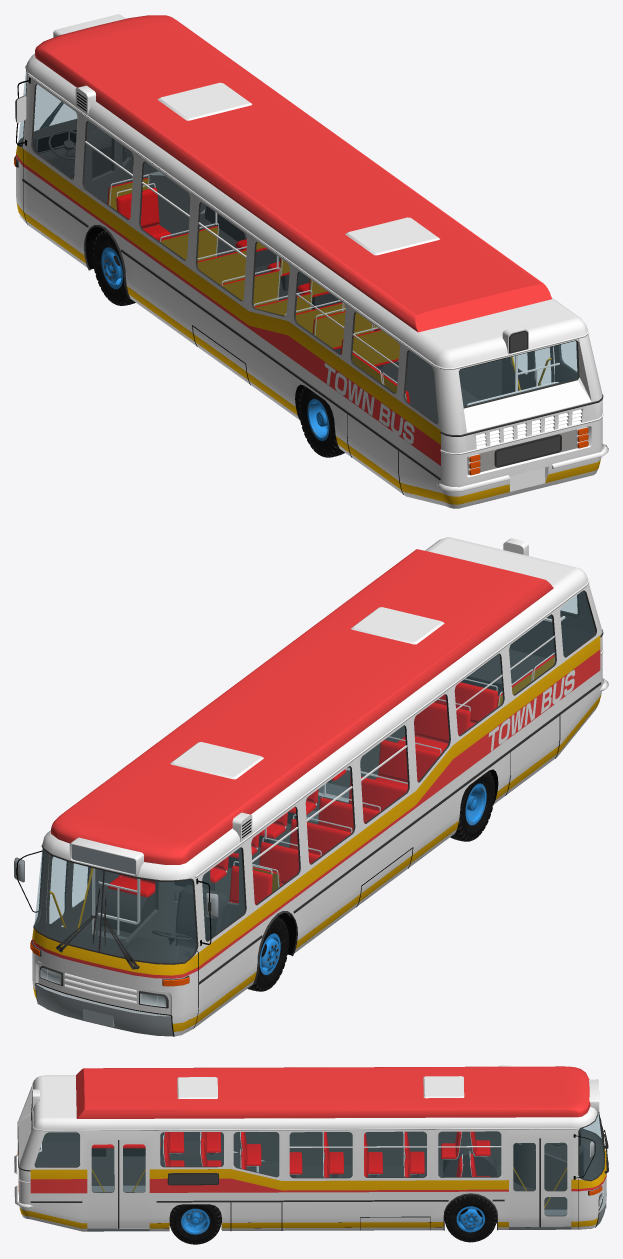
Rendered from bus_city_01.glb.
3 renders of one model, top to bottom at view 1: azimuth 30°, elevation 25°; view 2: azimuth 150°, elevation 25°; view 3: azimuth 270°, elevation 25°, orthographic. The views are drawn at different scales.
Visible parts, largest first — view 1: Object_25, Object_34, Object_16, Object_22, Object_33, Object_35, Object_23, Object_27, Object_32, Object_24, Object_14, Object_11 (+6 smaller); view 2: Object_34, Object_25, Object_16, Object_24, Object_22, Object_33, Object_27, Object_23, Object_17, Object_26, Object_14, Object_9 (+8 smaller); view 3: Object_25, Object_34, Object_16, Object_22, Object_27, Object_33, Object_24, Object_23, Object_10, Object_12, Object_32, Object_17 (+4 smaller).
Part boxes in pixels (box(x1,y1,x2,y2)): Object_25: box(16, 53, 602, 508); Object_34: box(16, 15, 551, 465); Object_16: box(18, 72, 577, 422); Object_22: box(15, 84, 577, 424); Object_33: box(16, 145, 600, 504); Object_35: box(108, 178, 551, 400); Object_23: box(17, 66, 603, 480); Object_27: box(33, 123, 577, 394); Object_32: box(27, 73, 608, 491); Object_24: box(107, 178, 409, 403); Object_14: box(298, 386, 344, 457); Object_11: box(92, 230, 135, 305); Object_34: box(32, 549, 600, 978); Object_25: box(32, 537, 602, 1036); Object_16: box(34, 591, 594, 1006); Object_24: box(108, 655, 554, 904); Object_22: box(16, 590, 596, 1008); Object_33: box(32, 635, 601, 1031); Object_27: box(36, 590, 595, 945); Object_23: box(16, 593, 603, 984); Object_17: box(35, 768, 378, 1036); Object_26: box(69, 616, 565, 981); Object_14: box(450, 771, 494, 841); Object_9: box(16, 652, 555, 1005); Object_25: box(18, 1065, 606, 1231); Object_34: box(30, 1066, 606, 1193); Object_16: box(32, 1113, 603, 1215); Object_22: box(34, 1116, 607, 1216); Object_27: box(40, 1129, 585, 1227); Object_33: box(19, 1148, 606, 1228); Object_24: box(91, 1131, 490, 1177); Object_23: box(17, 1090, 608, 1230); Object_10: box(444, 1194, 496, 1242); Object_12: box(169, 1204, 221, 1244); Object_32: box(14, 1083, 576, 1207); Object_17: box(87, 1151, 606, 1231).
Bounding box in the file's own units: 31.82 × 32.36 × 131.
Materials: 20 (3 with a texture image).
